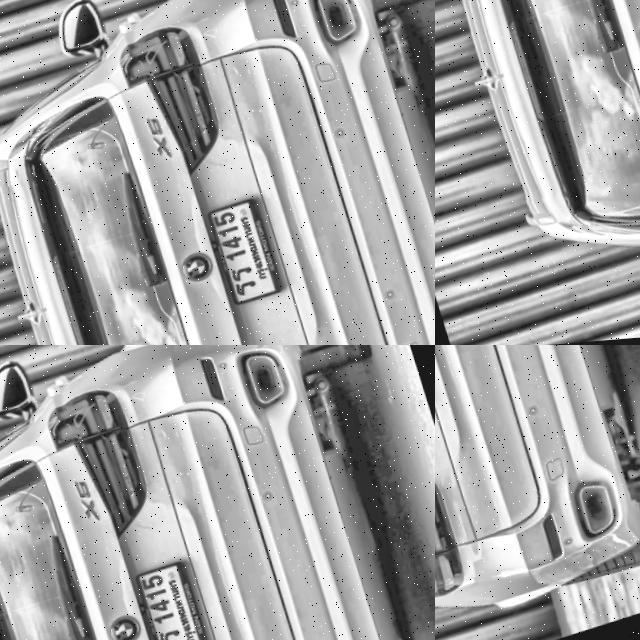license-plate: (435, 223, 543, 345)
